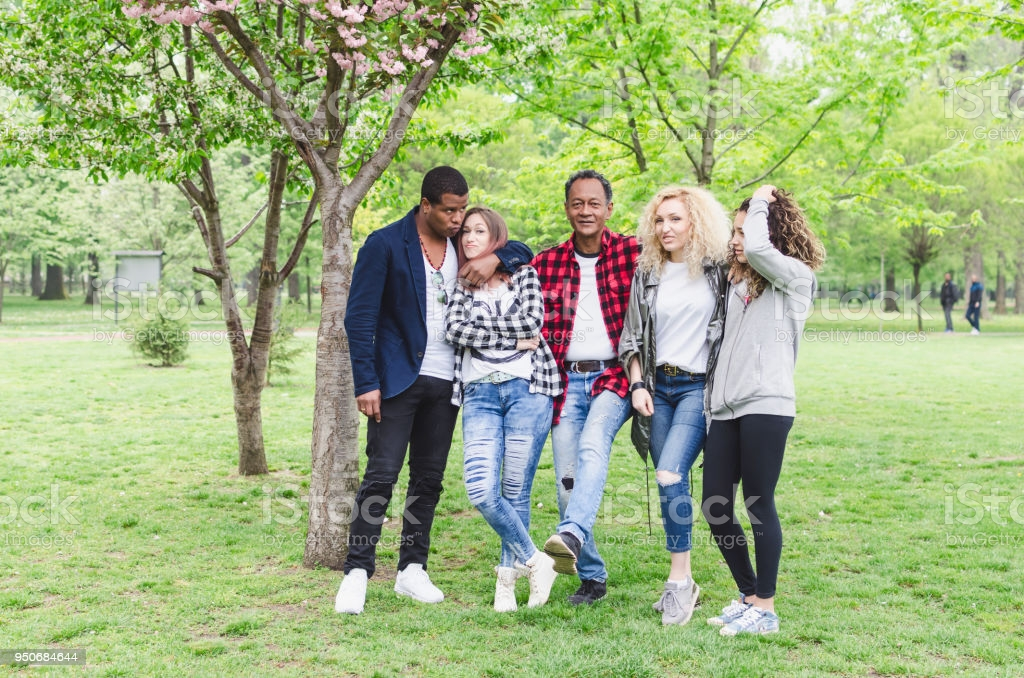person: (325, 158, 540, 624), (516, 167, 666, 615), (695, 176, 832, 650), (615, 179, 741, 638), (438, 203, 568, 622)
